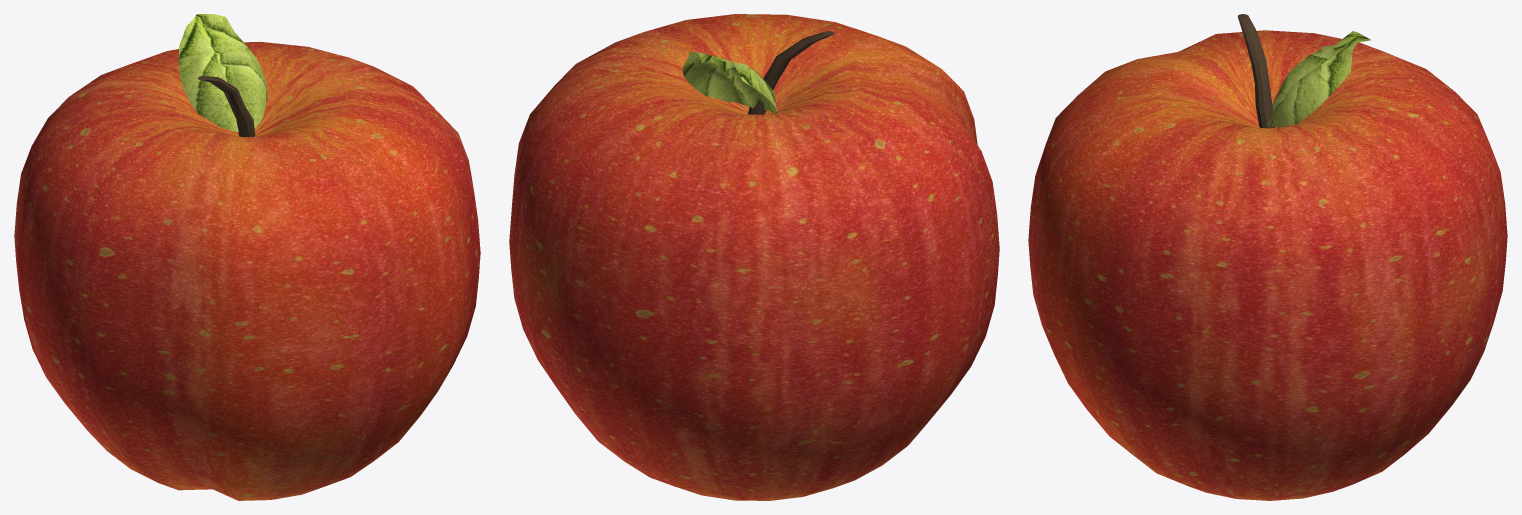
File: appleforunity.fbx
3 renders of one model, left to right at view 1: azimuth 30°, elevation 25°; view 2: azimuth 150°, elevation 25°; view 3: azimuth 270°, elevation 25°, orthographic. The views are drawn at different scales.
Parts seen in each view (by area): view 1: pDisc2; view 2: pDisc2; view 3: pDisc2.
Boxes of the visible parts, <box> form: pDisc2: <box>14,14,480,500</box>; pDisc2: <box>509,14,999,500</box>; pDisc2: <box>1028,14,1507,500</box>.
Bounding box in the file's own units: 8.78 × 8.59 × 8.78.
Materials: 3 (2 with a texture image).
